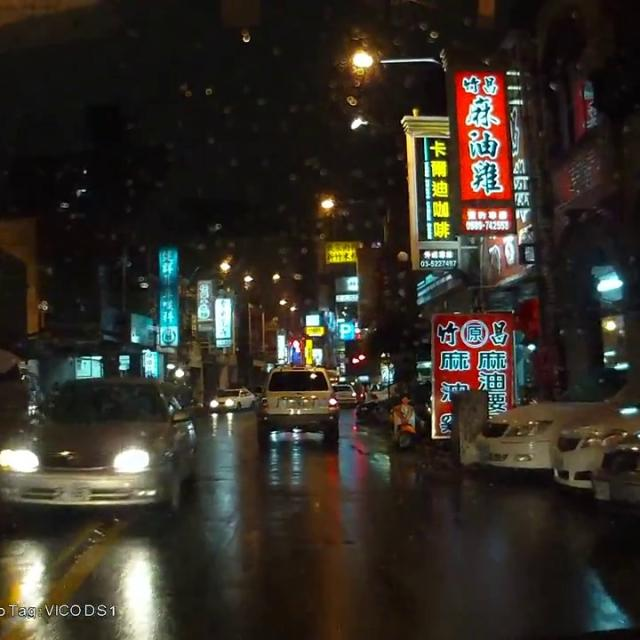Car: (0, 377, 196, 512), (473, 367, 639, 478), (256, 360, 338, 448), (204, 385, 255, 412), (328, 381, 359, 406)
